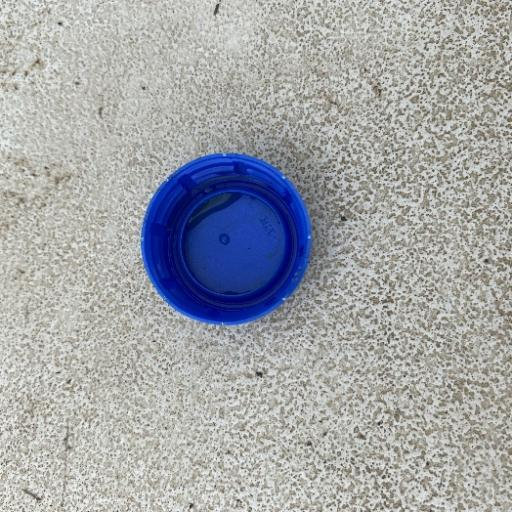Plastic: (138, 150, 312, 328)
